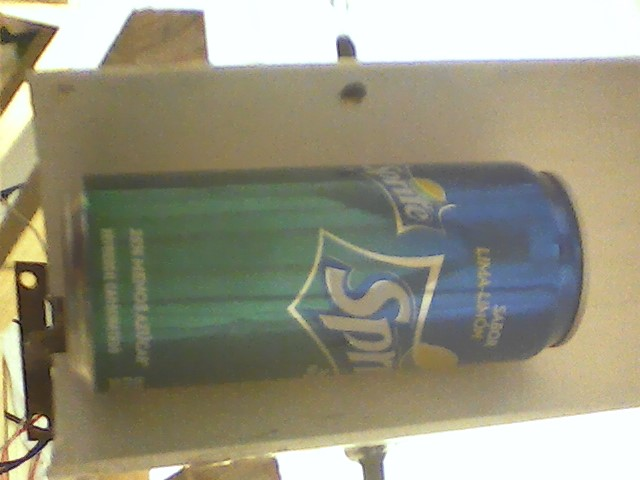lata: (48, 151, 596, 401)
